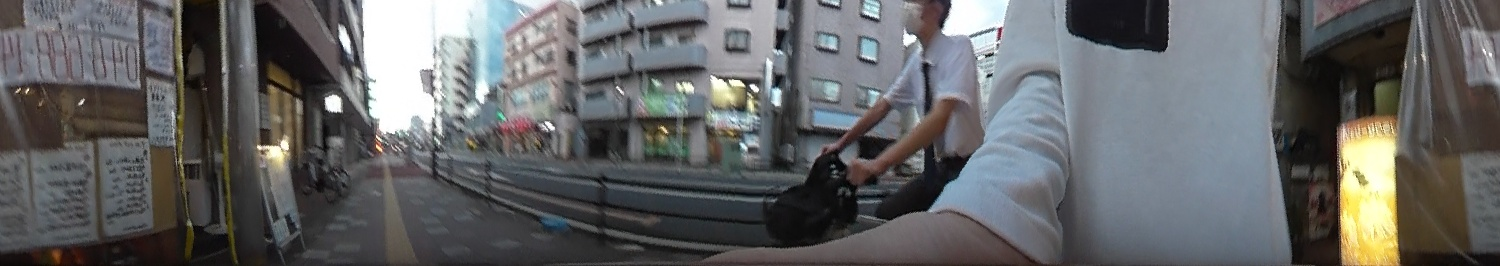person: (811, 0, 988, 212)
